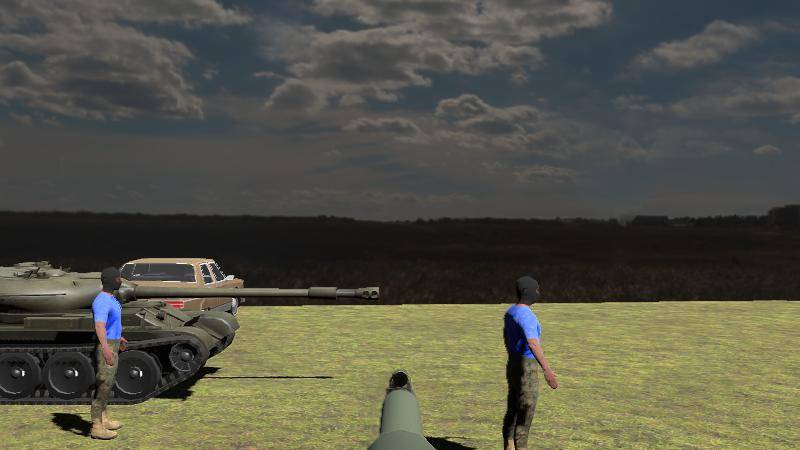Human: (502, 273, 559, 449), (90, 265, 129, 443)
Tank: (0, 268, 377, 407)
car: (93, 257, 246, 330)
